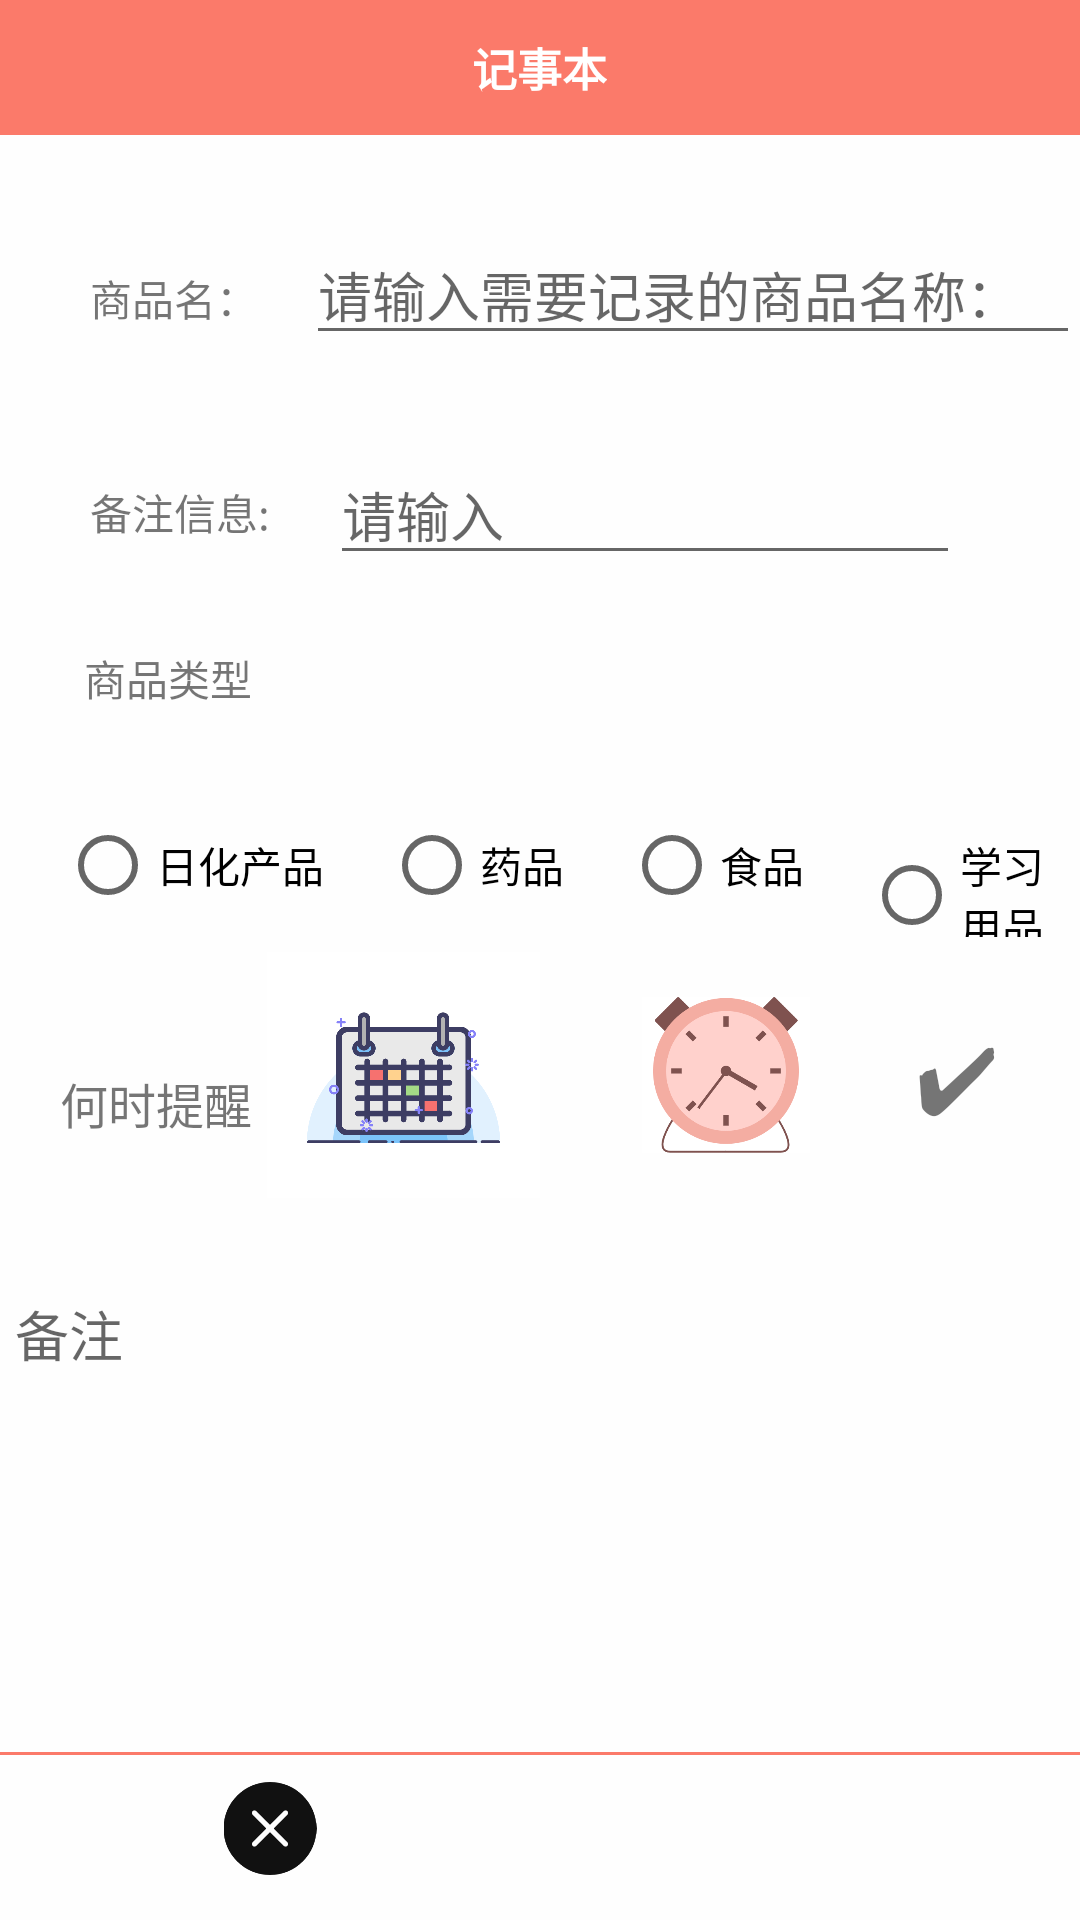

Screen size 1080 x 1920. Icon name, then its box in pixels as (x1, y1, x2, y2):
delete: (224, 1782, 317, 1875)
rili: (307, 1012, 500, 1143)
watch: (653, 997, 799, 1153)
